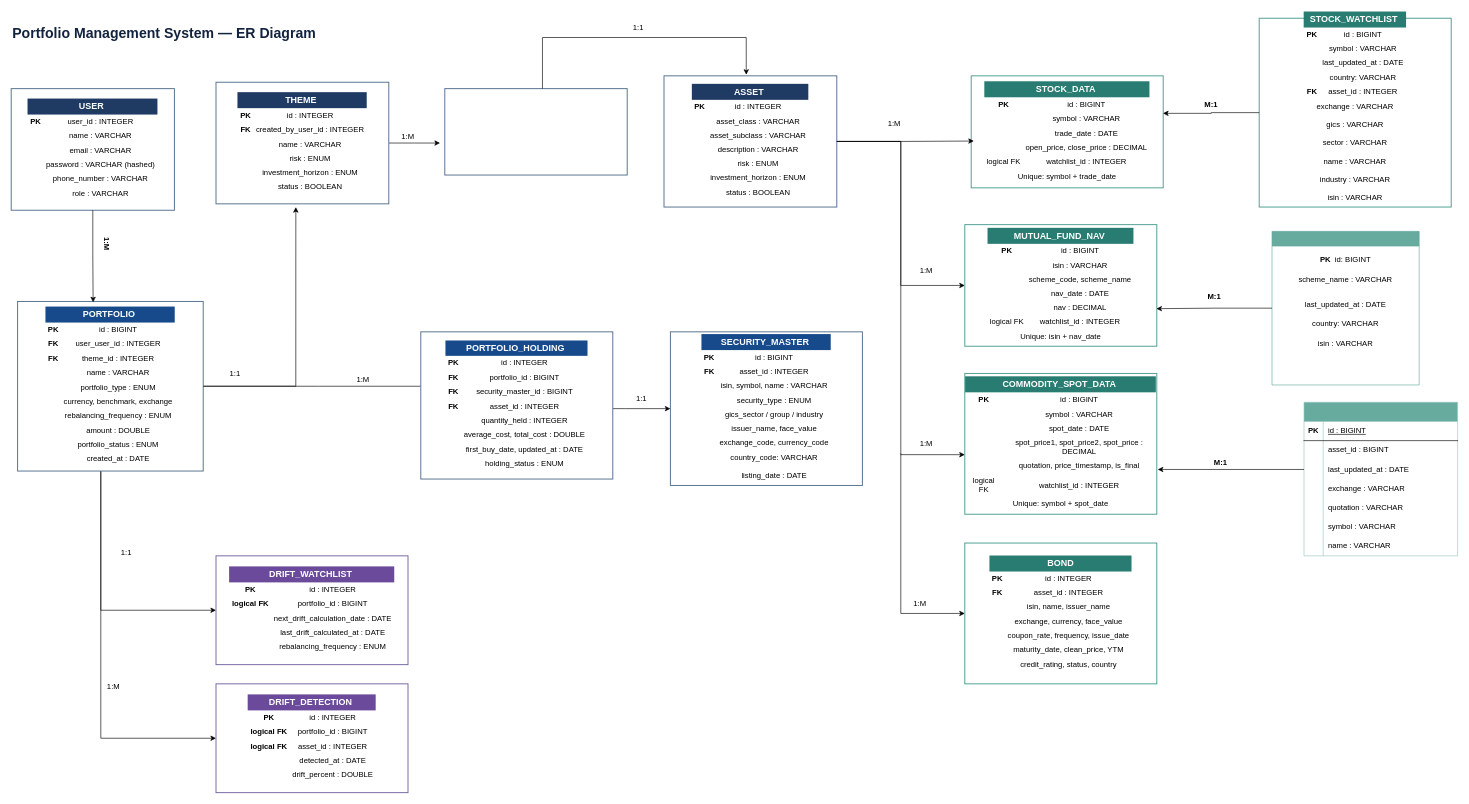
Image size: 1469x804. Some labels were removed from this diagram. Here are the shapes that lost their labels. From the top down, the box of each, then its label:
(444, 88, 627, 175): ALLOCATION_RULE PK id : INTEGER FK asset_id : INTEGER percentage : DOUBLE
(1271, 231, 1419, 385): MUTUAL_FUND_WATCHLIST
(1303, 402, 1458, 556): COMMODITY_SPOT_DATA
